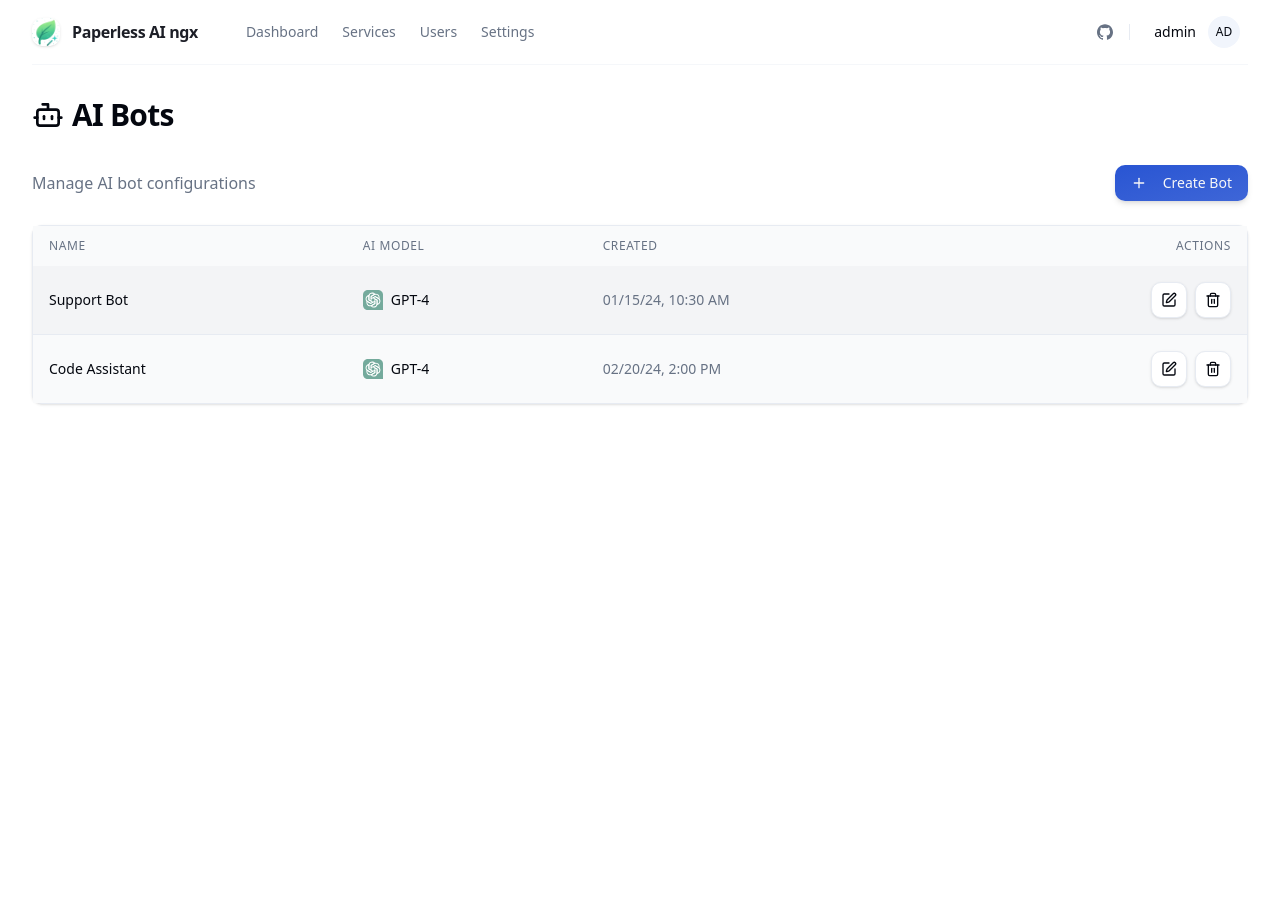
Test: AiBotsPage › opens edit dialog when clicking edit button
Step 1. Click the button with test id "edit-bot-bot-2" → (1169, 369), box left=1151, top=351, right=1187, bottom=387
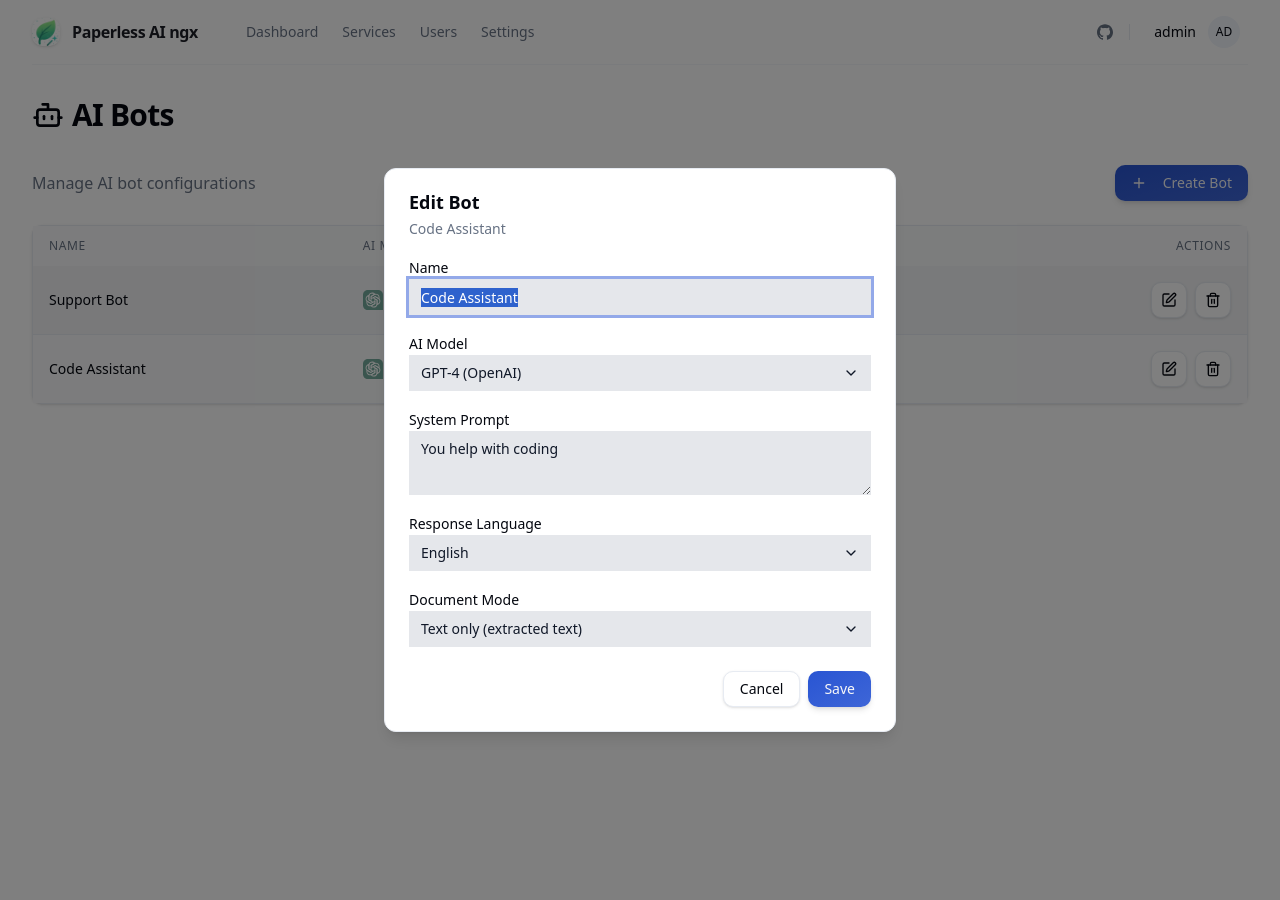
Expected: the dialog is shown, left=384, top=168, right=896, bottom=732
